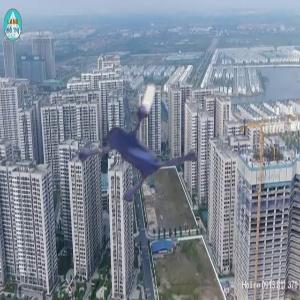drone: (61, 56, 229, 224)
